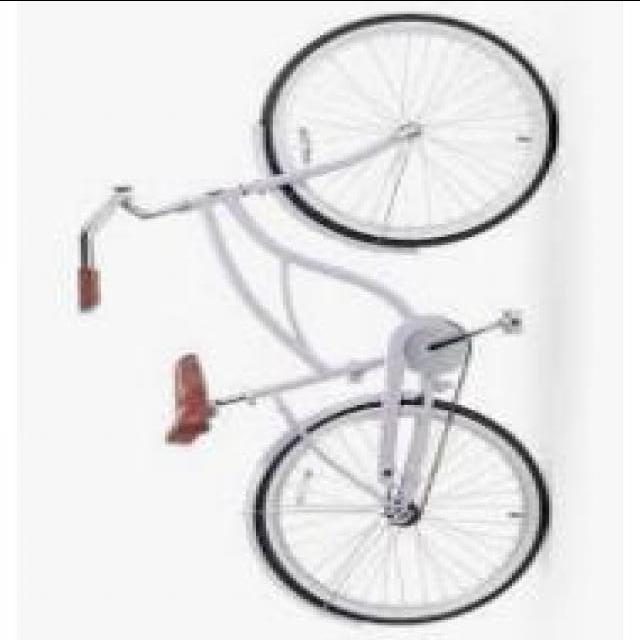bicycle: (102, 19, 574, 633)
